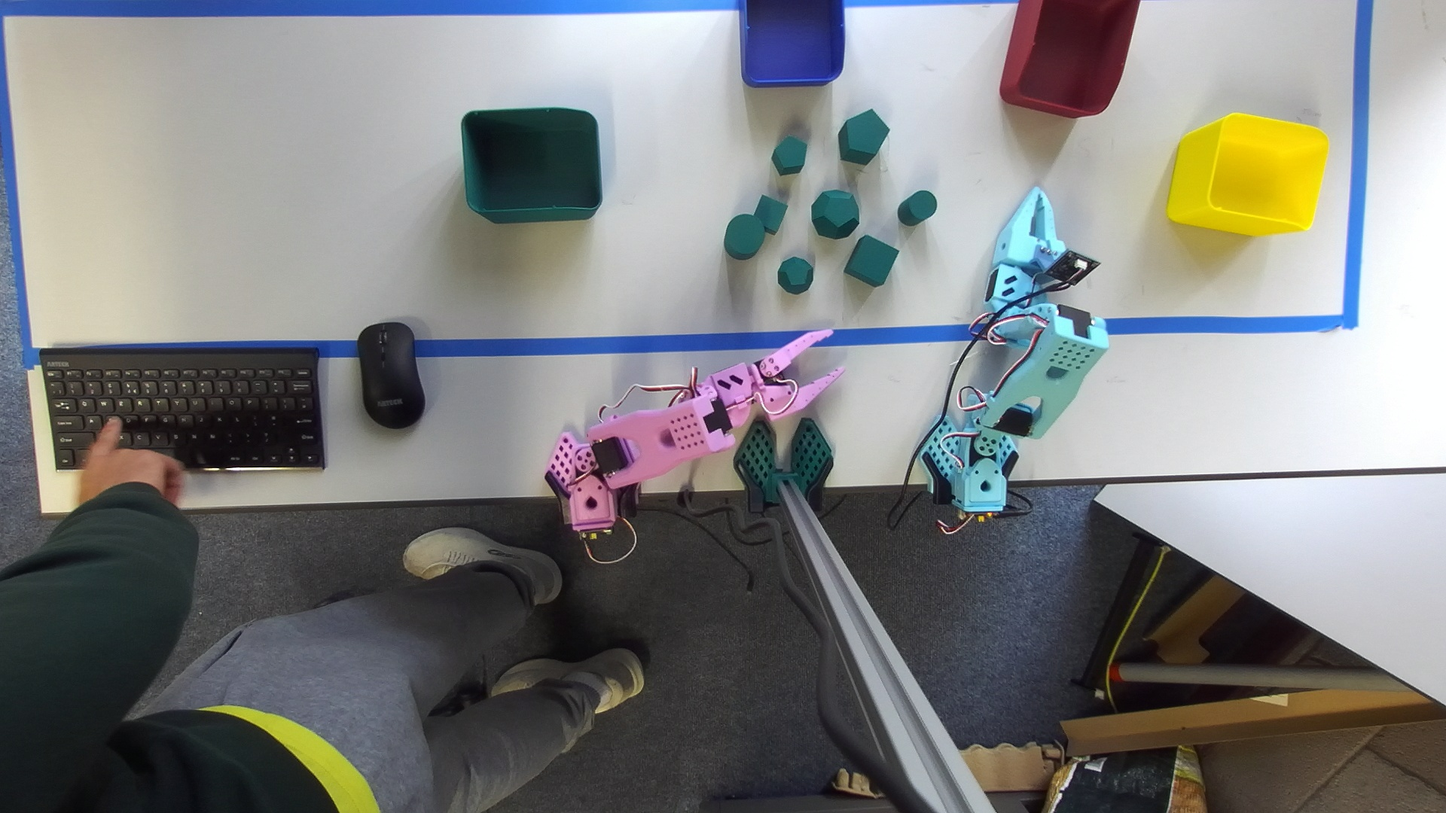bin: (1166, 113, 1328, 235), (999, 0, 1139, 117), (462, 108, 602, 223), (739, 0, 844, 87)
cube: (844, 235, 898, 287), (755, 195, 787, 233)
cylinder: (724, 214, 764, 259), (898, 190, 937, 225)
dodecahedron: (811, 190, 859, 238), (778, 257, 813, 294)
gripper: (749, 329, 844, 419), (992, 186, 1066, 272)
hexagonal: (838, 109, 889, 165), (772, 136, 807, 175)
